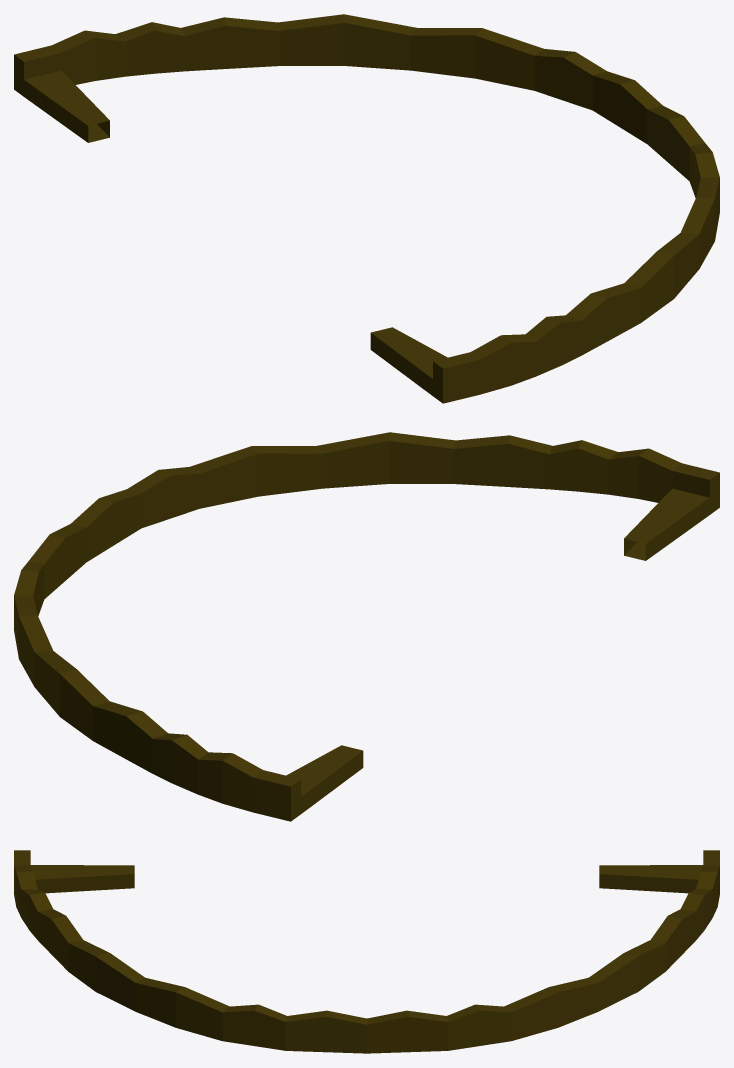
The model's file is Bear_Trap_D.fbx.
3 views of the same model, one above another, from view 1: azimuth 30°, elevation 25°; view 2: azimuth 150°, elevation 25°; view 3: azimuth 270°, elevation 25° (orthographic). The views are drawn at different scales.
Visible parts, largest first — view 1: Bear_Trap_D; view 2: Bear_Trap_D; view 3: Bear_Trap_D.
Part boxes in pixels (x1,y1,x2,y2): Bear_Trap_D: [14, 14, 719, 403]; Bear_Trap_D: [14, 432, 719, 821]; Bear_Trap_D: [14, 850, 719, 1053].
Size of the model in its own units: 31.64 by 3 by 54.12.
